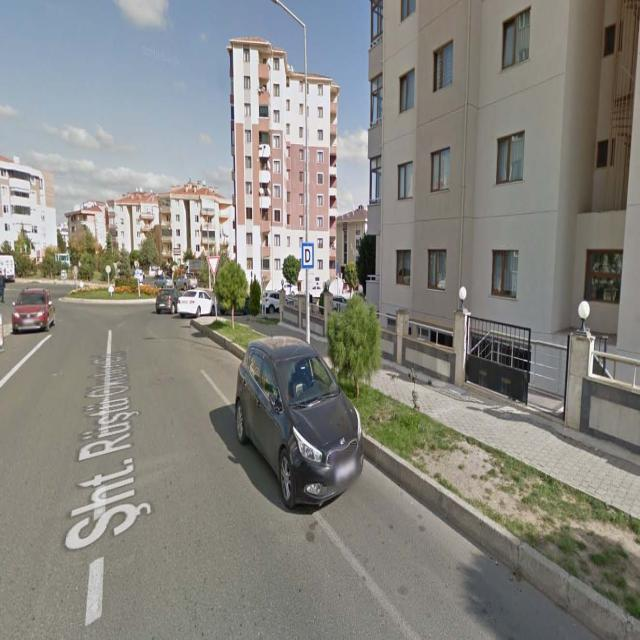durak: (302, 242, 314, 268)
